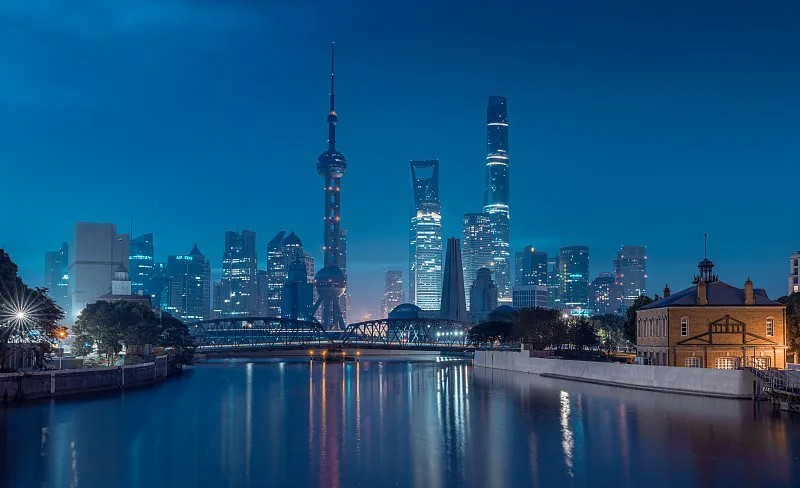Oriental: (313, 42, 346, 328)
